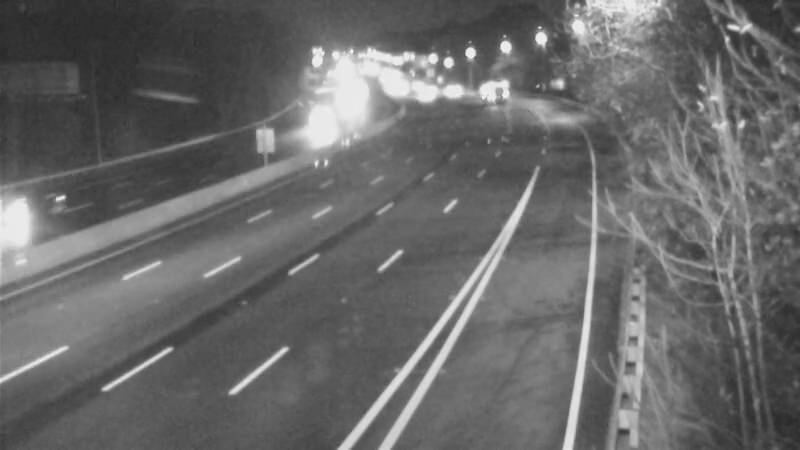vehicle: (1, 182, 69, 262), (466, 65, 516, 115), (297, 102, 347, 152)
